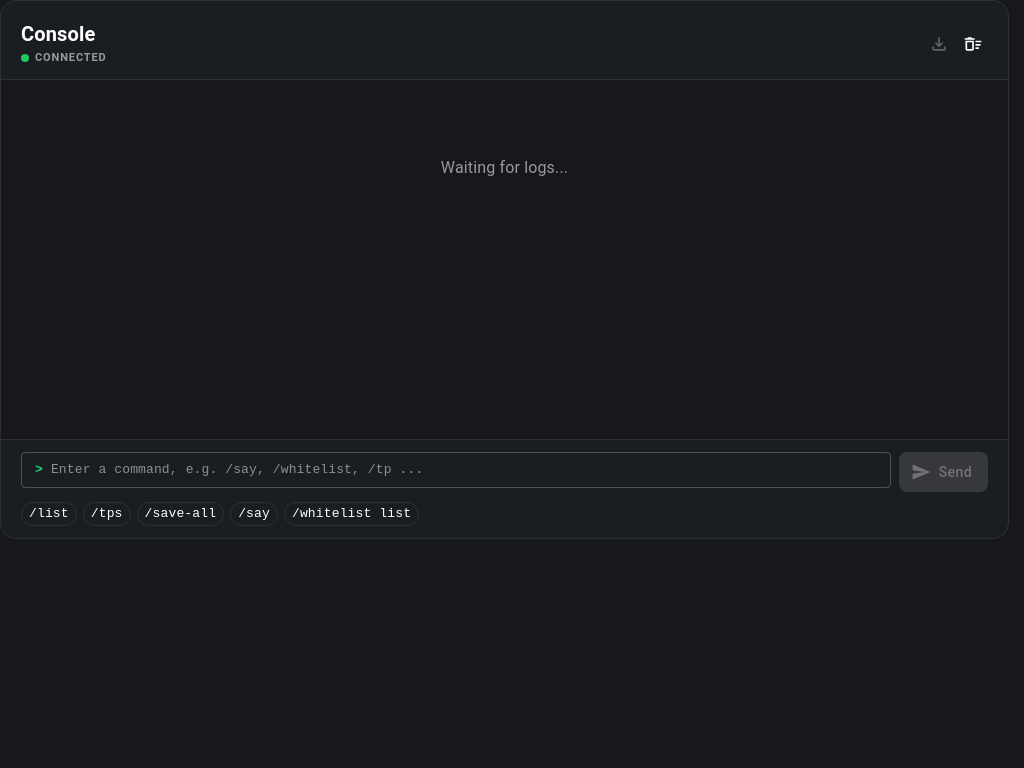
it: OverviewConsole › disables sending while a command is in flight
Type "/list" into the field named "Console command".
click(471, 470); type("/list")  # box x1=51 y1=452 x2=891 y2=488
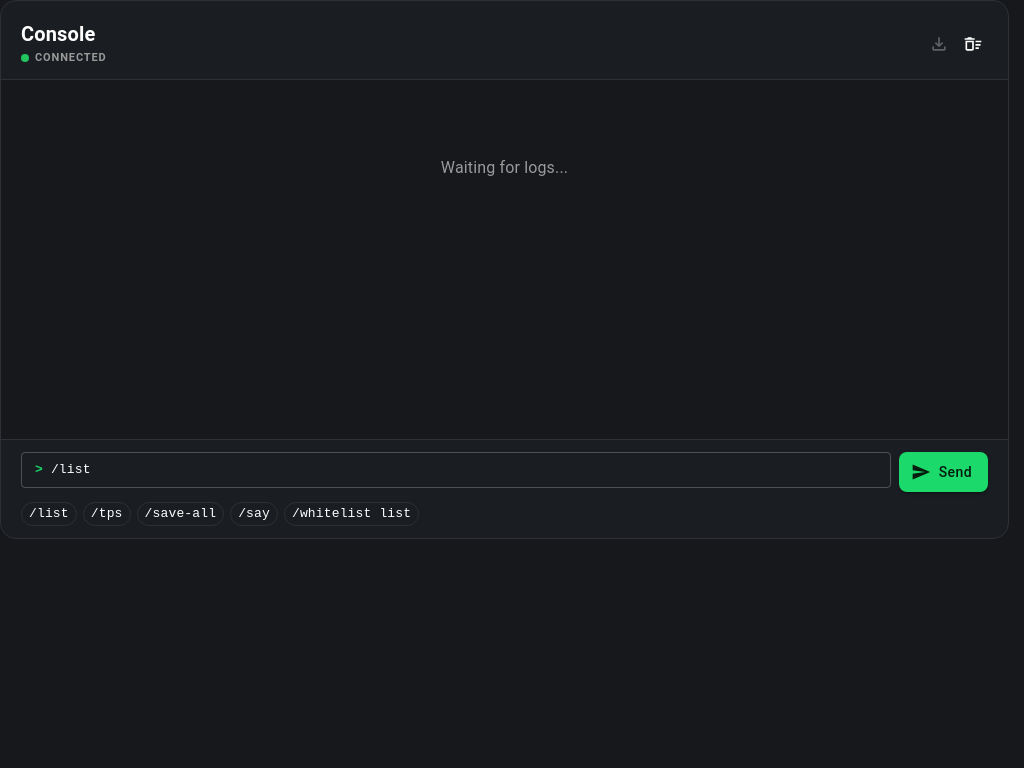
Click the button with aria-label "Send command".
click(943, 472)  # box x1=899 y1=452 x2=988 y2=492
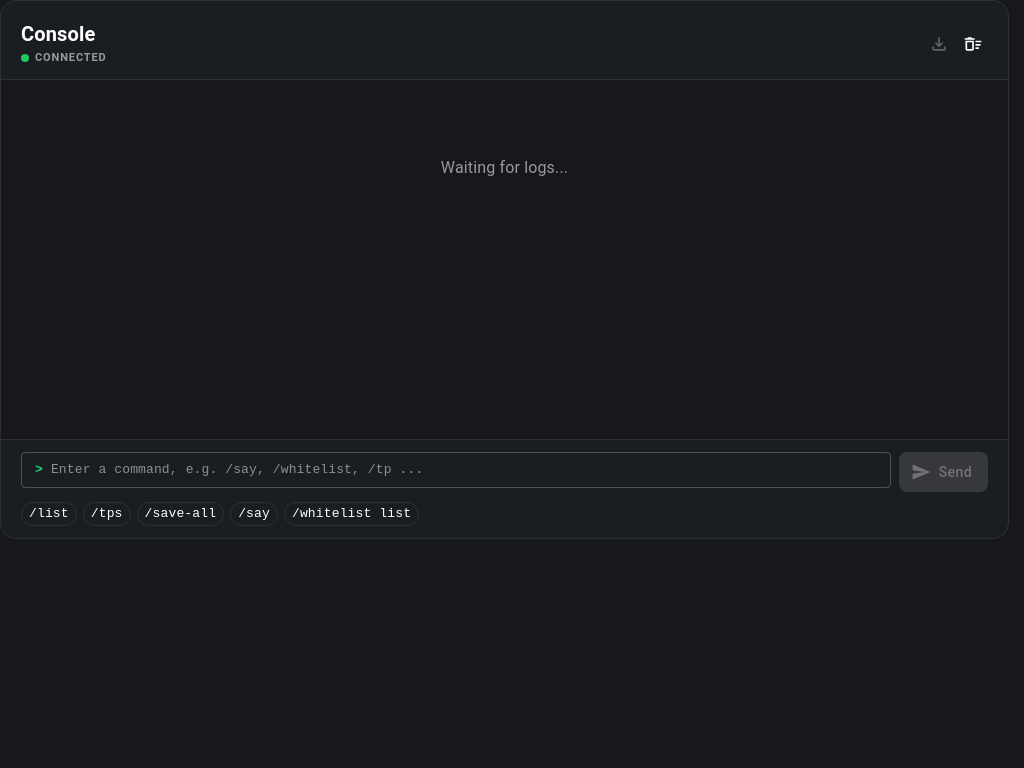
Expected: the button with aria-label "Send command" is disabled, x1=899 y1=452 x2=988 y2=492
